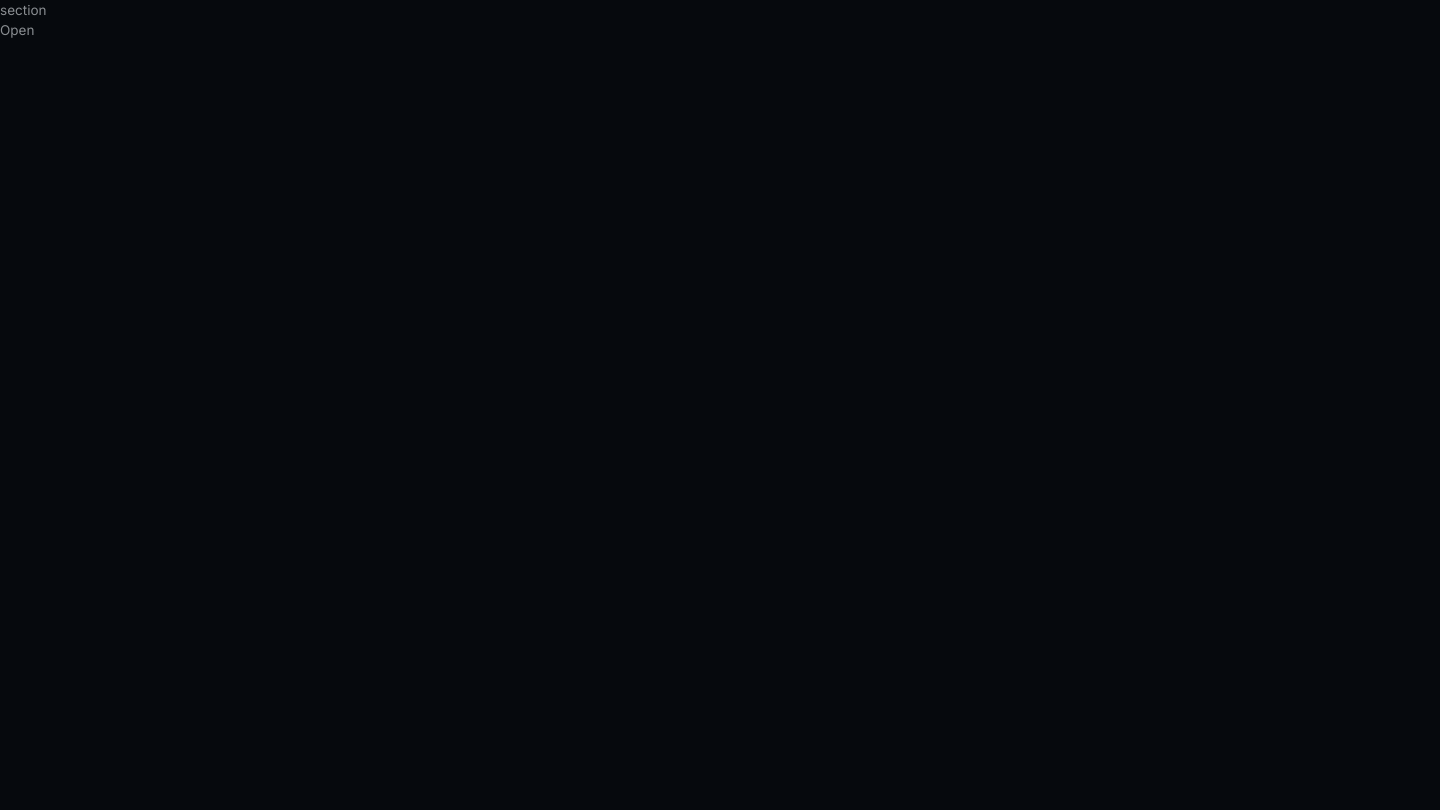
Settings command palette destinations › offers nothing scoped to a project it cannot know it is in
Press k
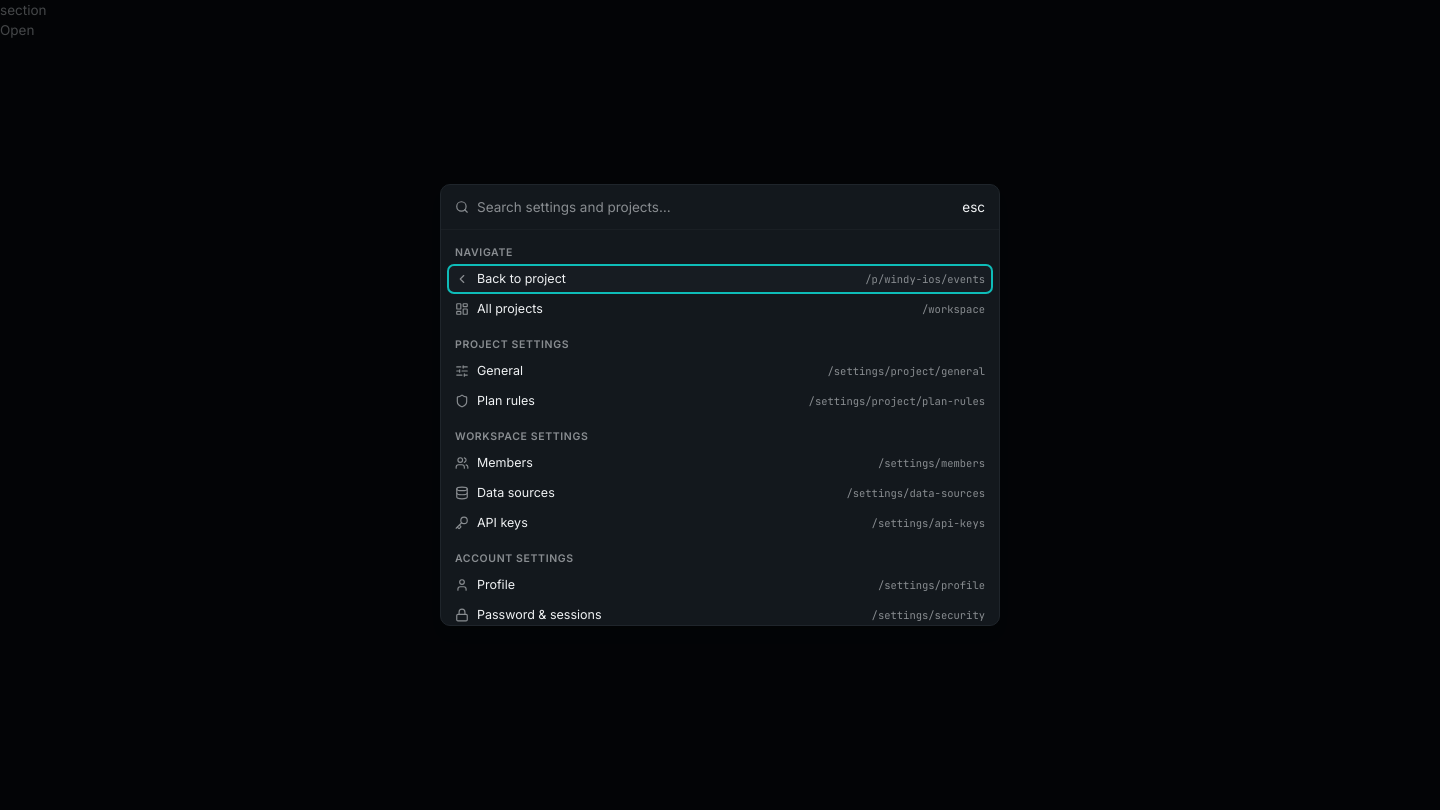
Type "anomalies" into the dropdown with placeholder "Search settings and projects…". click: (716, 207)
box: [477,197,954,217]
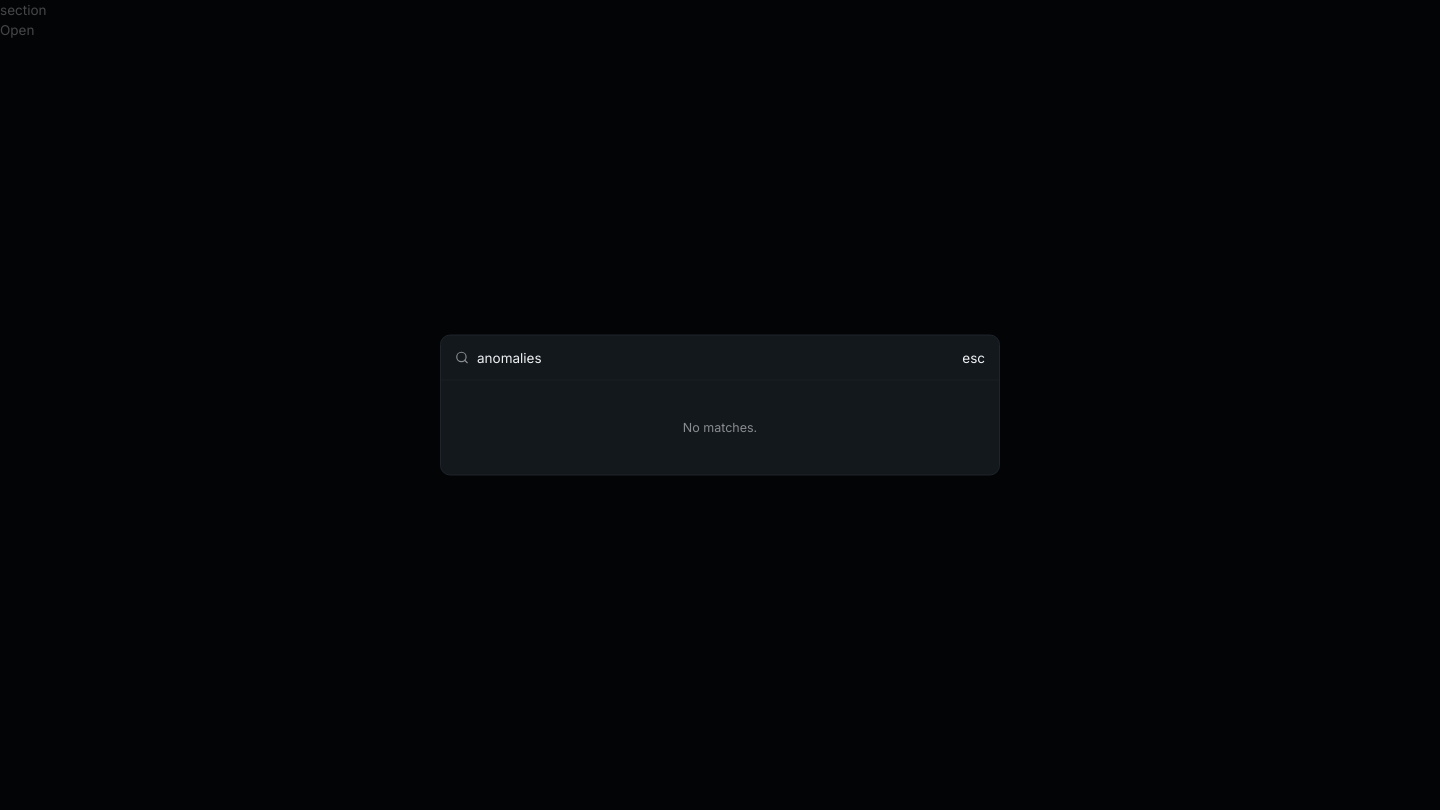
Expected: the text "No matches." is shown, [683,420,757,434]
